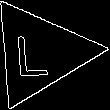L_N: (20, 27, 59, 79)
